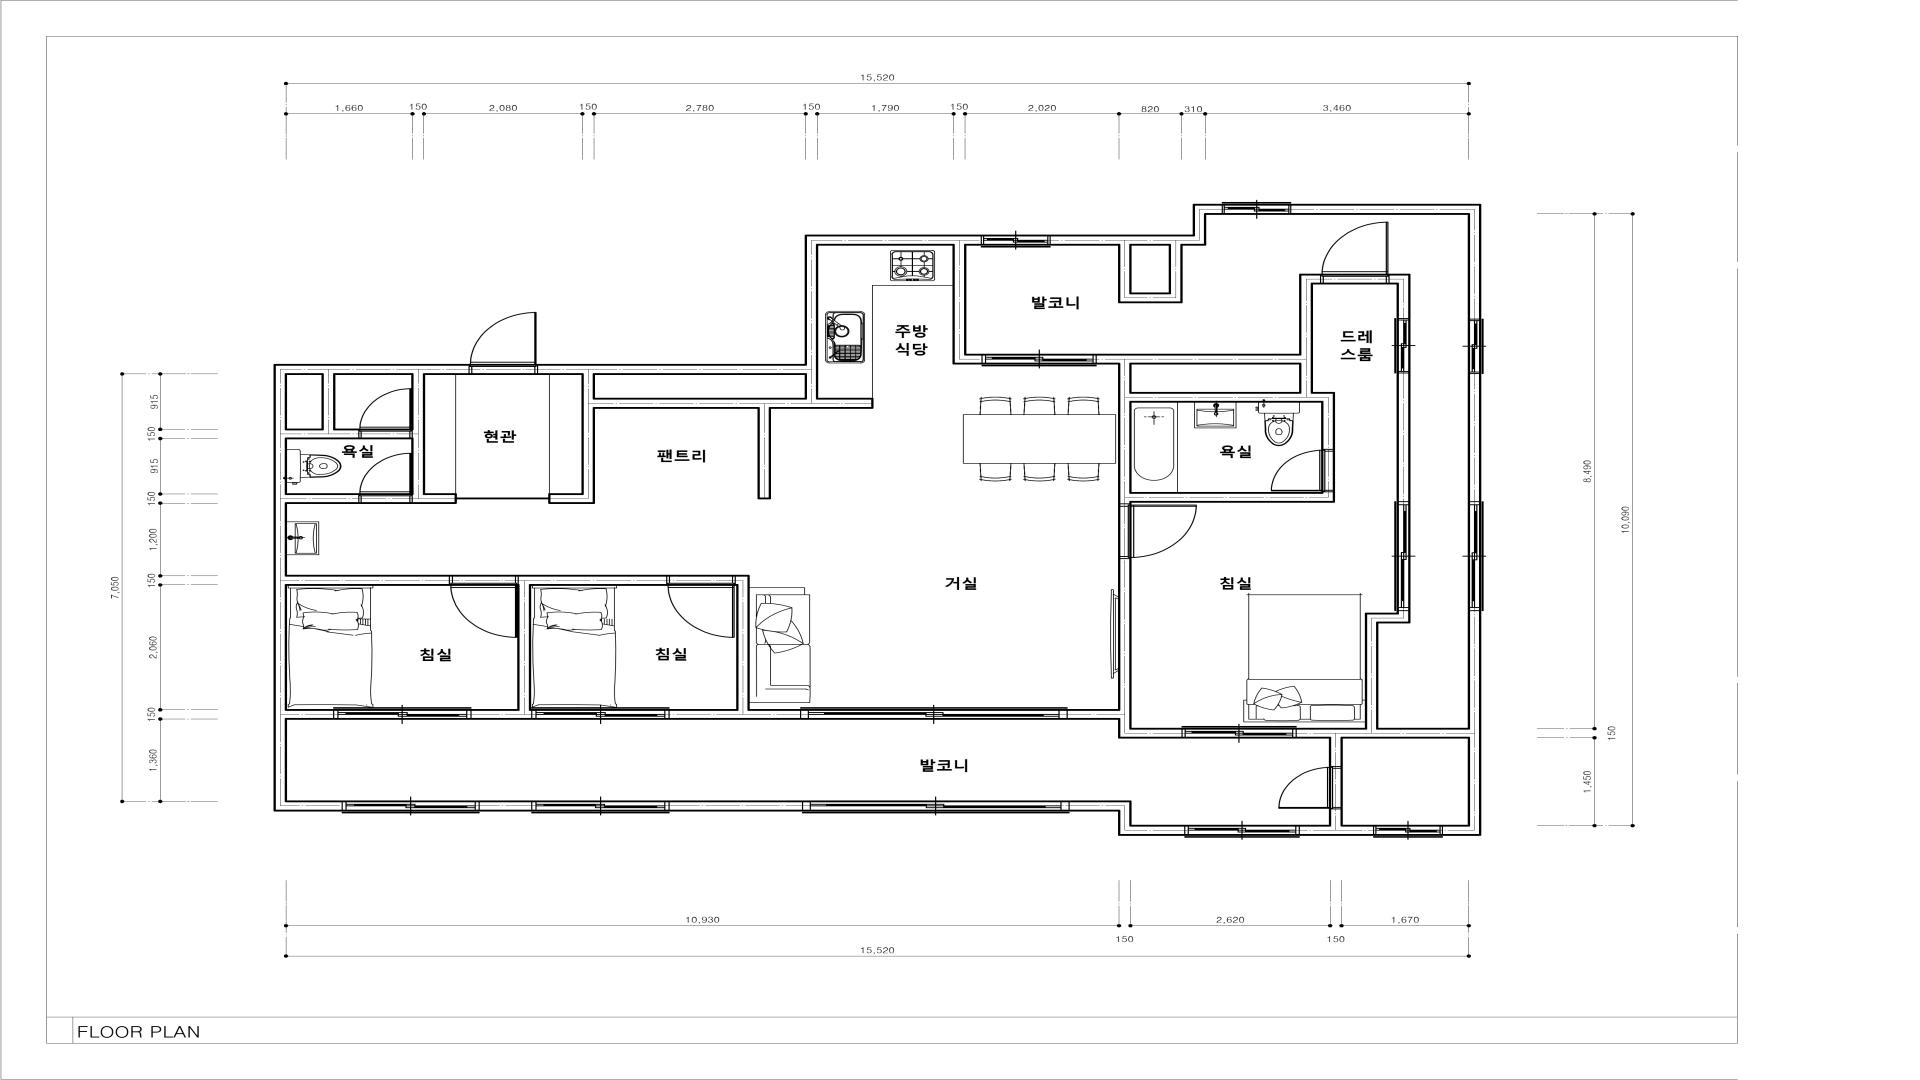door: (1320, 222, 1390, 285), (1118, 504, 1197, 559), (667, 575, 736, 638), (468, 313, 538, 375), (450, 575, 517, 638), (1278, 766, 1342, 810), (359, 388, 411, 439), (359, 452, 411, 504), (1271, 450, 1335, 492)
wall: (273, 376, 287, 812), (1468, 611, 1481, 836), (538, 364, 819, 375), (595, 398, 873, 409), (1118, 559, 1131, 738), (1131, 492, 1335, 502), (1097, 353, 1299, 364), (273, 364, 468, 375), (1291, 204, 1481, 215), (1131, 392, 1321, 402), (517, 575, 531, 709), (736, 575, 750, 709), (1396, 373, 1411, 501), (1118, 365, 1131, 504), (1296, 728, 1468, 738), (819, 235, 981, 245), (804, 235, 818, 364), (287, 575, 448, 585), (411, 376, 425, 504), (1468, 375, 1481, 501), (1051, 235, 1207, 245), (952, 245, 967, 353), (1299, 285, 1313, 392), (582, 376, 595, 493), (1365, 613, 1378, 728), (531, 575, 666, 585), (670, 800, 802, 811), (670, 709, 800, 720), (1468, 215, 1481, 319), (757, 409, 771, 500), (1300, 824, 1373, 836), (1321, 392, 1336, 450), (1118, 245, 1131, 303), (287, 429, 359, 439), (287, 493, 359, 504), (322, 375, 335, 429), (1168, 245, 1183, 293), (1069, 800, 1131, 811), (472, 709, 531, 720), (1131, 824, 1184, 836), (287, 800, 342, 811), (1131, 293, 1183, 303), (480, 800, 531, 811), (1131, 728, 1182, 738), (1068, 709, 1118, 720), (287, 709, 334, 720), (549, 493, 595, 504), (1396, 285, 1411, 318), (1192, 204, 1207, 235), (1329, 738, 1342, 766), (1378, 613, 1411, 624), (804, 376, 819, 398), (426, 493, 456, 504), (1118, 812, 1131, 836), (952, 353, 981, 364), (1443, 824, 1468, 836), (1390, 274, 1411, 285), (1299, 274, 1320, 285), (1329, 810, 1342, 824), (1207, 204, 1222, 215)
window: (802, 800, 1069, 814), (800, 707, 1068, 720), (1394, 501, 1411, 612), (342, 800, 480, 814), (531, 800, 670, 814), (531, 707, 670, 720), (334, 707, 471, 720), (1468, 501, 1484, 611), (1184, 824, 1300, 837), (1182, 725, 1296, 738), (981, 353, 1096, 367), (1394, 318, 1411, 373), (1373, 824, 1443, 837), (981, 235, 1051, 248), (1222, 202, 1291, 215), (1468, 319, 1484, 375)
